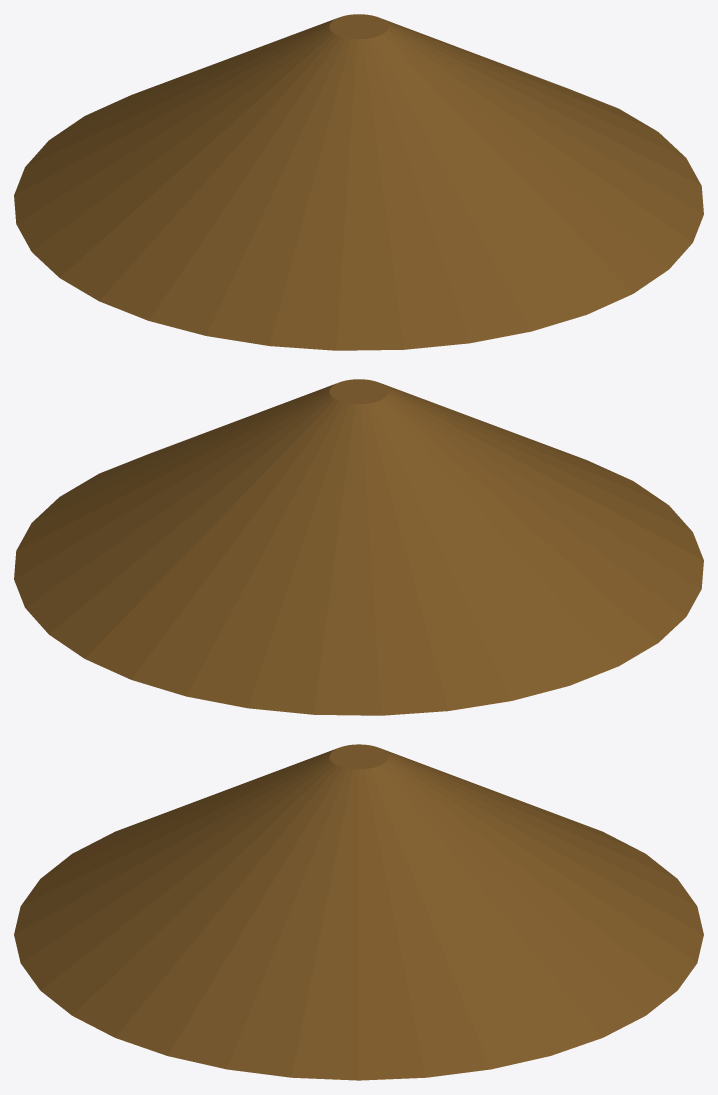
The model's file is bamboo hat.fbx.
3 views of the same model, one above another, from view 1: azimuth 30°, elevation 25°; view 2: azimuth 150°, elevation 25°; view 3: azimuth 270°, elevation 25° (orthographic).
Visible parts, largest first — view 1: 柱体.008; view 2: 柱体.008; view 3: 柱体.008.
Part boxes in pixels (bbox=[...]): 柱体.008: bbox=[14, 14, 703, 350]; 柱体.008: bbox=[14, 379, 703, 715]; 柱体.008: bbox=[14, 744, 703, 1080].
Size of the model in its own units: 200 by 56.9 by 200.
